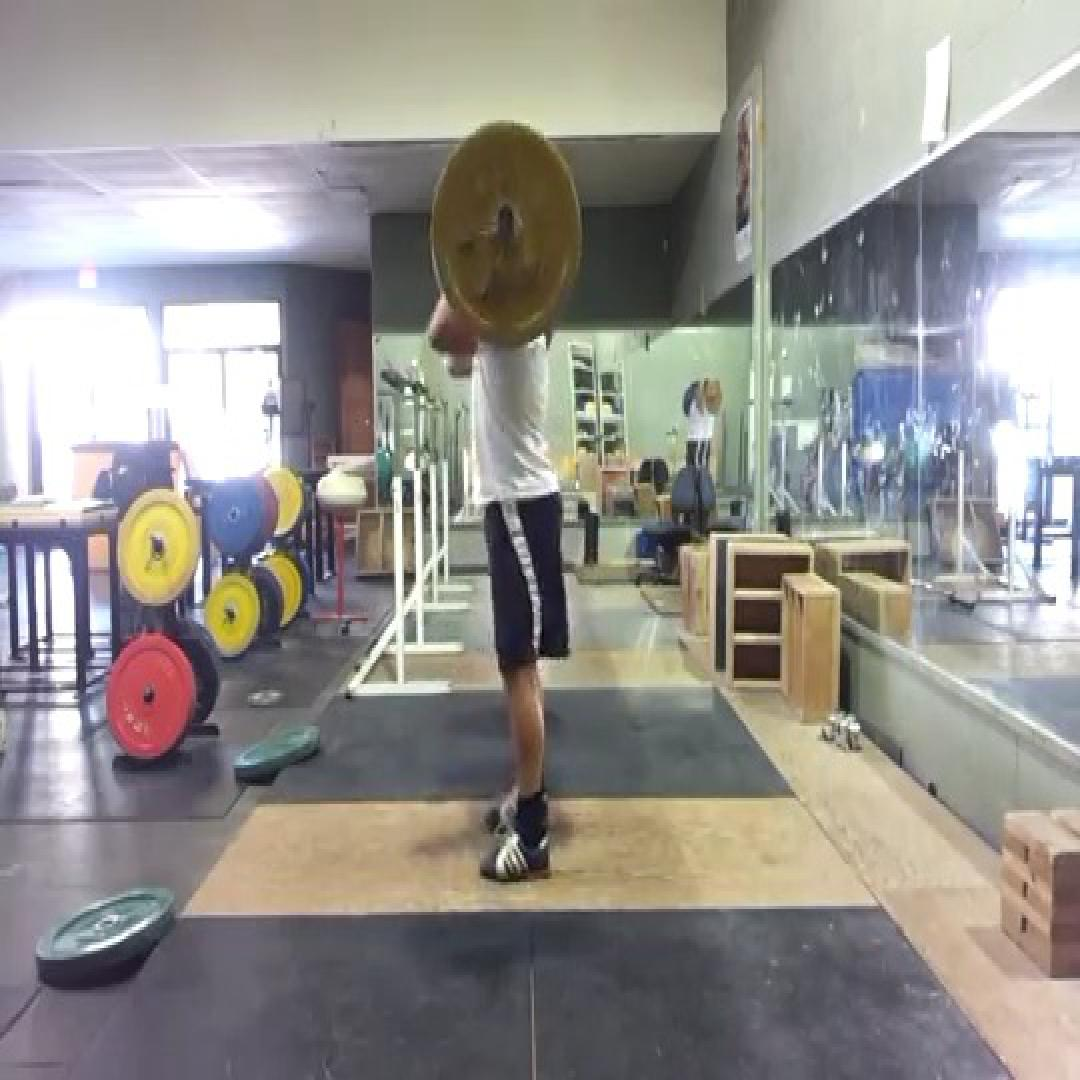Bar: (494, 201, 516, 234)
Barbell: (431, 120, 582, 345)
